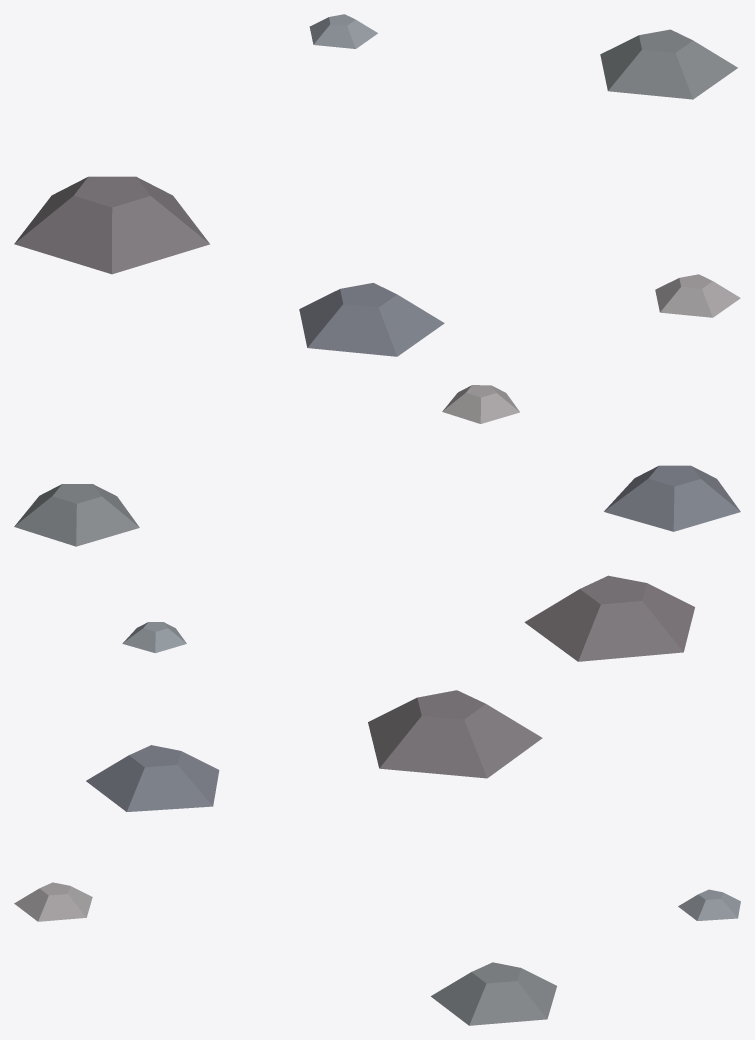
Rendered from Rocks_Round_s_03.fbx.
The picture shows the model from 3 angles, top to bottom: view 1: azimuth 30°, elevation 25°; view 2: azimuth 150°, elevation 25°; view 3: azimuth 270°, elevation 25°; orthographic projection. The views are drawn at different scales.
Visible parts, largest first — view 1: Rocks_Round_s_03; view 2: Rocks_Round_s_03; view 3: Rocks_Round_s_03.
Boxes of the visible parts, box(x1,y1,x2,y2) form: Rocks_Round_s_03: box(14, 14, 740, 356); Rocks_Round_s_03: box(14, 385, 740, 661); Rocks_Round_s_03: box(14, 690, 740, 1025).
Bounding box in the file's own units: 56.49 × 3.07 × 53.88.
